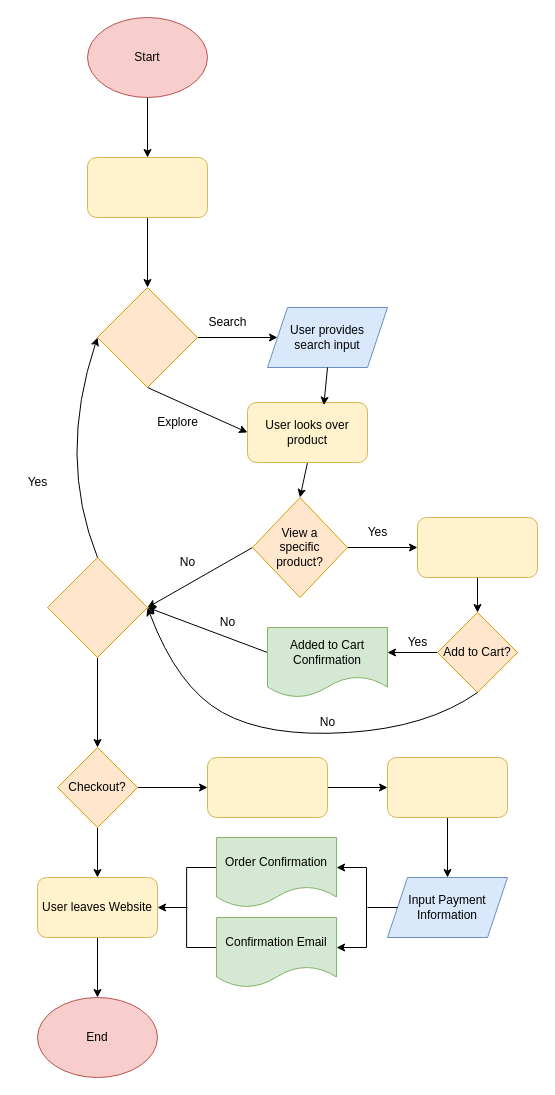
Some shapes in this 555 by 1095 pixel diagram are drawn without their labels. Here are the shapes that lost their labels. From the top down, the centre of each, then its label:
At point 147,187: "Enter Website".
At point 147,337: "Search or Explore".
At point 477,547: "Open Product's Webpage".
At point 97,607: "Continue Shopping?".
At point 267,787: "View Cart".
At point 447,787: "View Payment".
